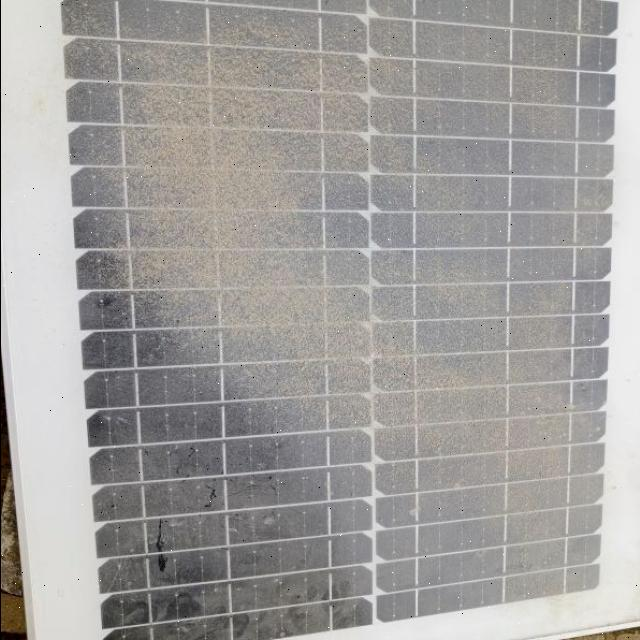Anomaly Solar Panel: (41, 0, 640, 637)
Surface Contaminant: (53, 0, 631, 617)
